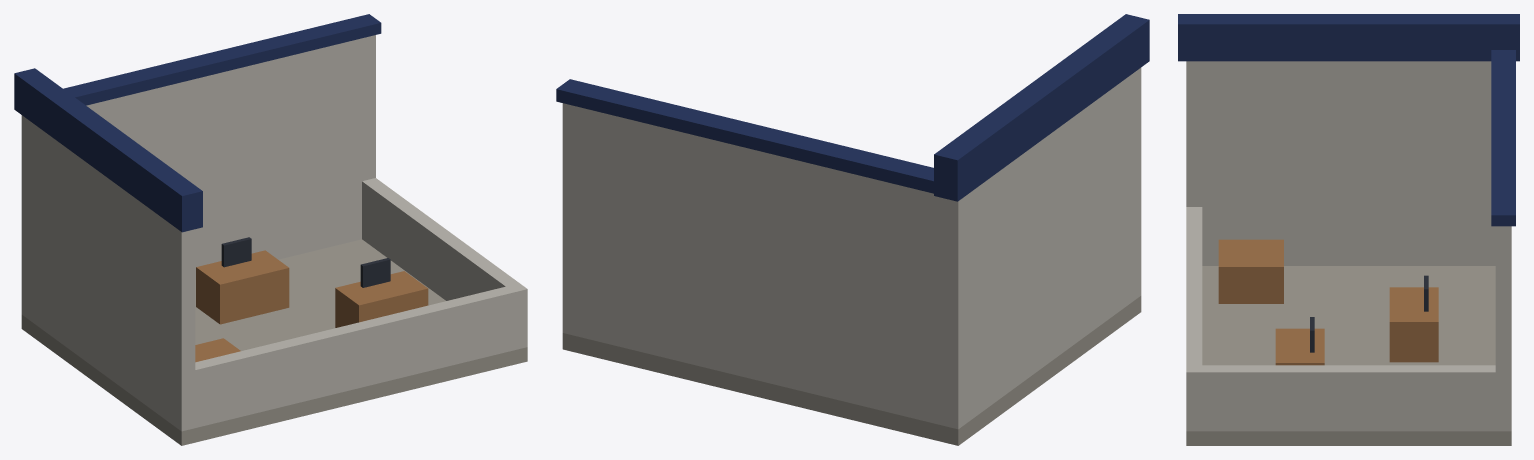
The model's file is customs_office.glb.
3 views of the same model, side by side, from view 1: azimuth 30°, elevation 25°; view 2: azimuth 150°, elevation 25°; view 3: azimuth 270°, elevation 25° (orthographic). The views are drawn at different scales.
Parts seen in each view (by area): view 1: customs_office; view 2: customs_office; view 3: customs_office.
Part boxes in pixels (x1,y1,x2,y2): customs_office: (14,14,527,445); customs_office: (556,14,1149,445); customs_office: (1178,14,1519,445).
Size of the model in its own units: 5.1 by 3.5 by 4.2.
